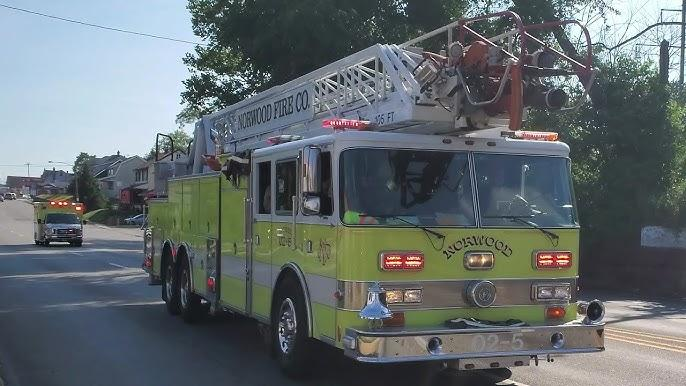firetruck_on: (146, 8, 607, 386), (32, 198, 86, 249)
